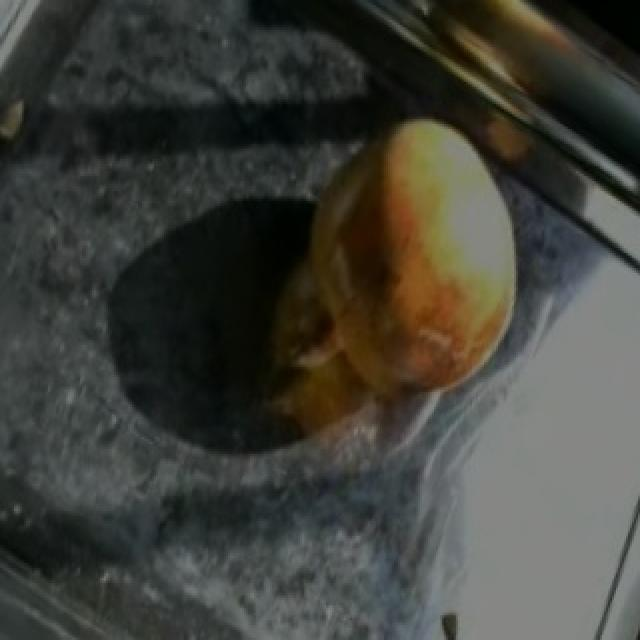fruit: (282, 116, 556, 426)
